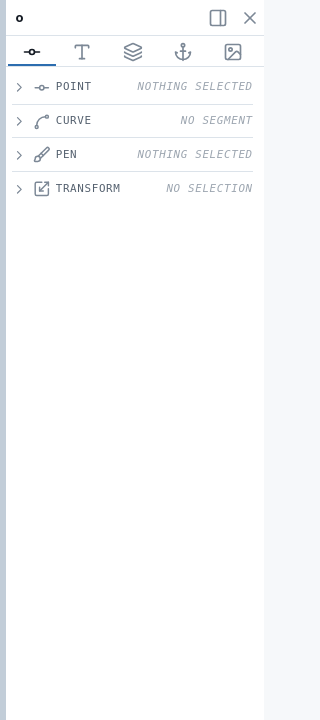
Scenario: anchors in the inspector › lists them, with where they are
Click the tab named "Anchors and guides" at (183, 53), box [159, 40, 207, 66]
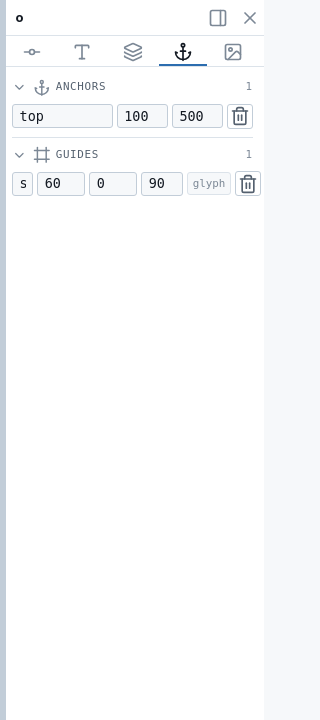
Now the field named "X of the anchor top" holds "100", box [117, 104, 168, 128]
Now the field named "Y of the anchor top" holds "500", box [172, 104, 223, 128]
